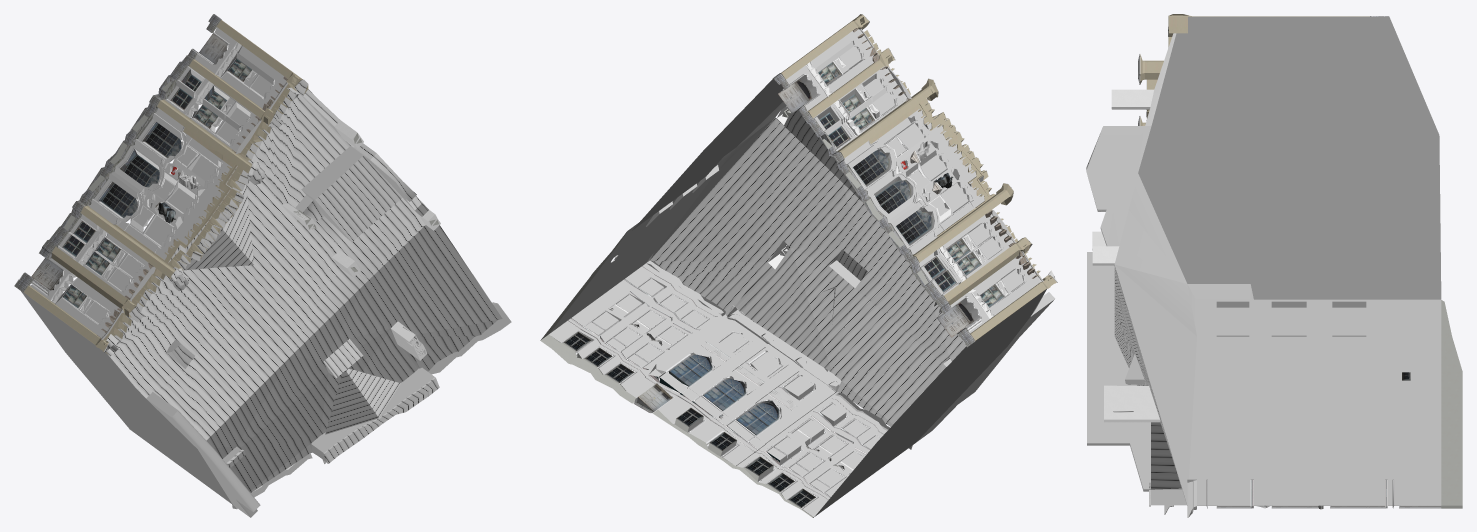
The model's file is Pikk_20-origo.obj.
3 views of the same model, side by side, from view 1: azimuth 30°, elevation 25°; view 2: azimuth 150°, elevation 25°; view 3: azimuth 270°, elevation 25° (orthographic). The views are drawn at different scales.
Visible parts, largest first — view 1: Pikk_20; view 2: Pikk_20; view 3: Pikk_20.
Part boxes in pixels (<box>): Pikk_20: <box>14,14,511,517</box>; Pikk_20: <box>540,14,1057,517</box>; Pikk_20: <box>1086,14,1462,517</box>.
Size of the model in its own units: 39.81 by 38.5 by 25.3.
